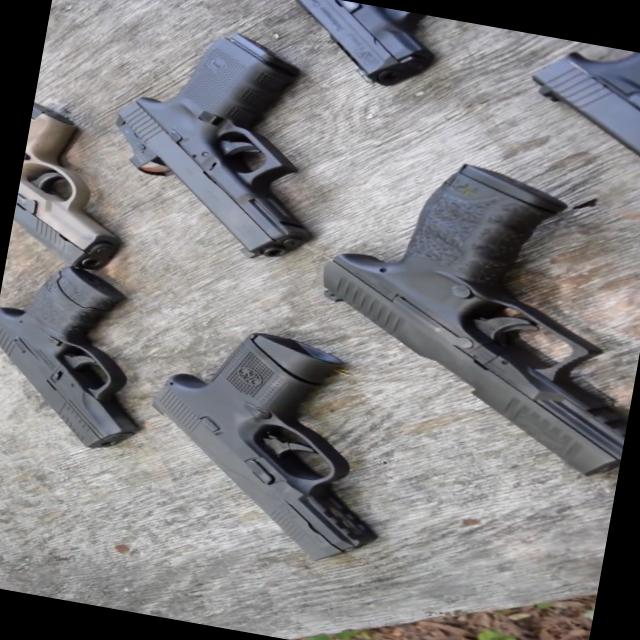handgun: (296, 114, 639, 481), (124, 300, 448, 580), (99, 0, 365, 289), (0, 246, 157, 464), (4, 86, 156, 292), (525, 35, 639, 176), (271, 0, 424, 105)
